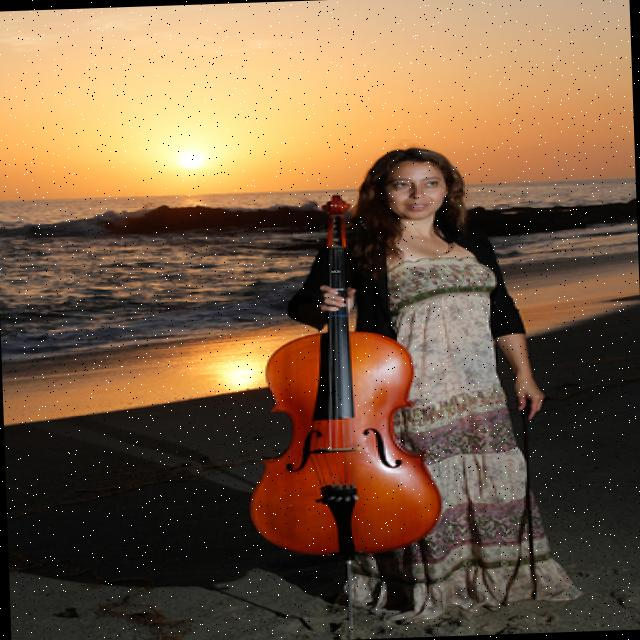cello: (230, 187, 448, 566)
